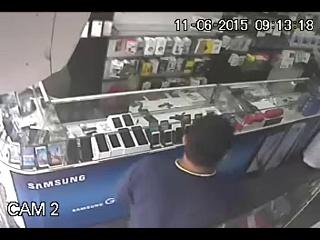Normal: (114, 115, 245, 229)
